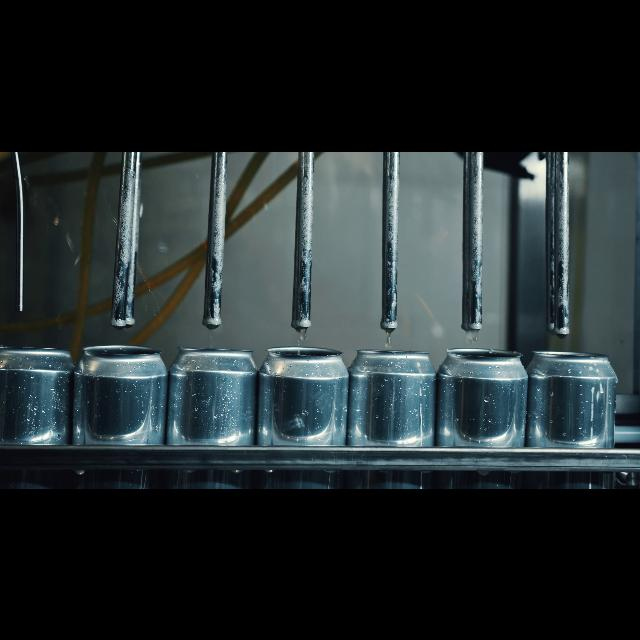empty: (78, 336, 168, 488), (440, 336, 528, 488), (172, 338, 260, 488), (532, 339, 618, 488), (352, 336, 436, 488), (266, 336, 348, 488), (3, 336, 72, 488)
